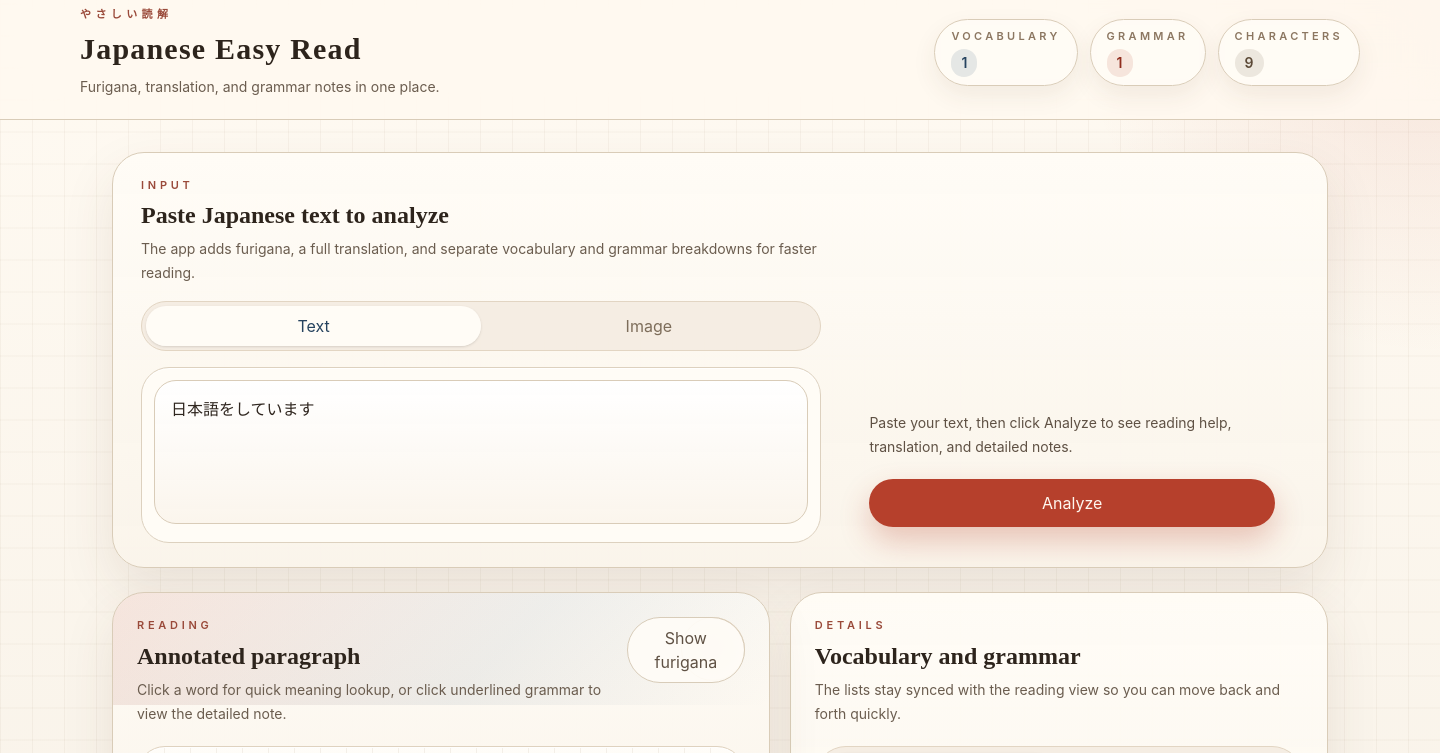
Test case: App › switches to the Grammar tab when a grammar token is clicked
This screenshot has width=1440, height=753.
Replace the text in the text box with placeholder "Paste a Japanese paragraph..." with "日本語". click: point(481, 452)
box: [154,380,808,524]
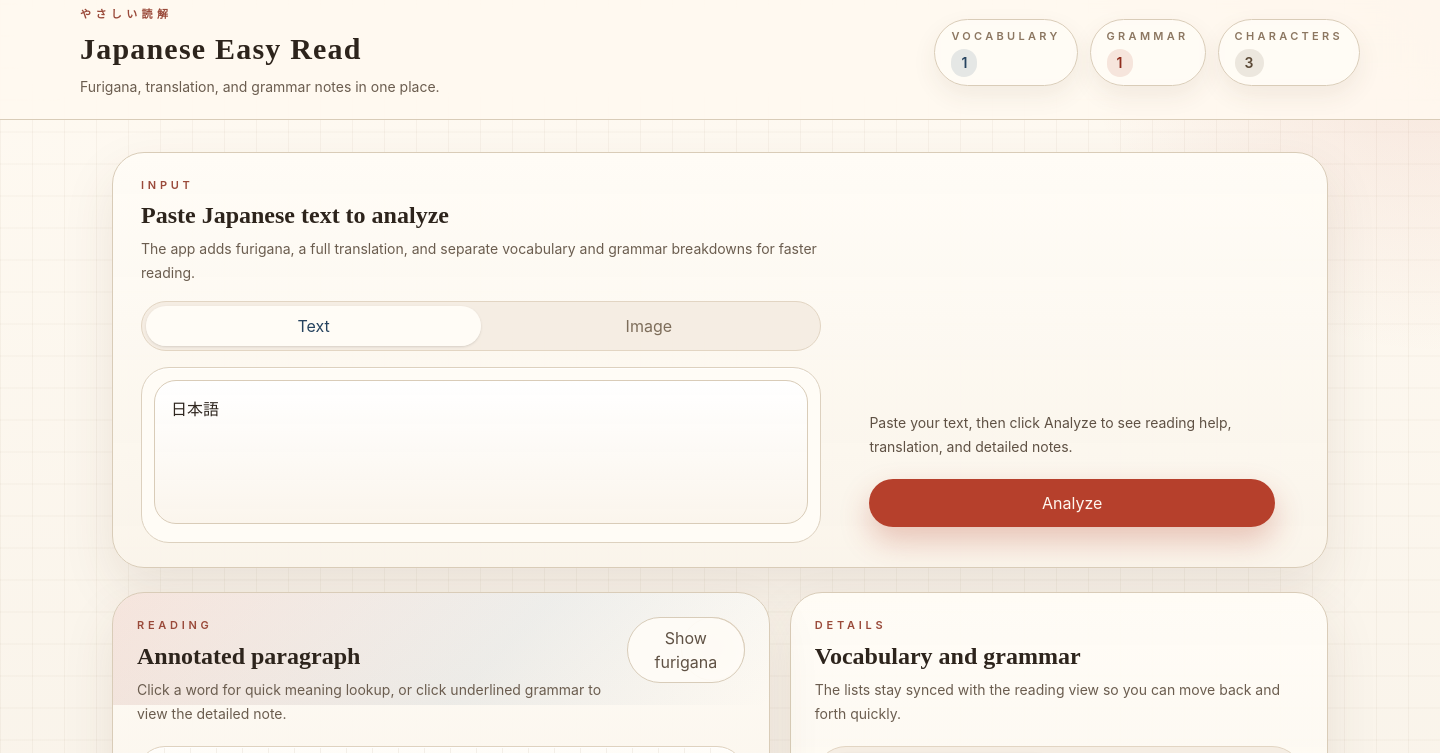
Click the button "Analyze". click: point(1072, 503)
box: [869,479,1275,527]
(page scrolled)
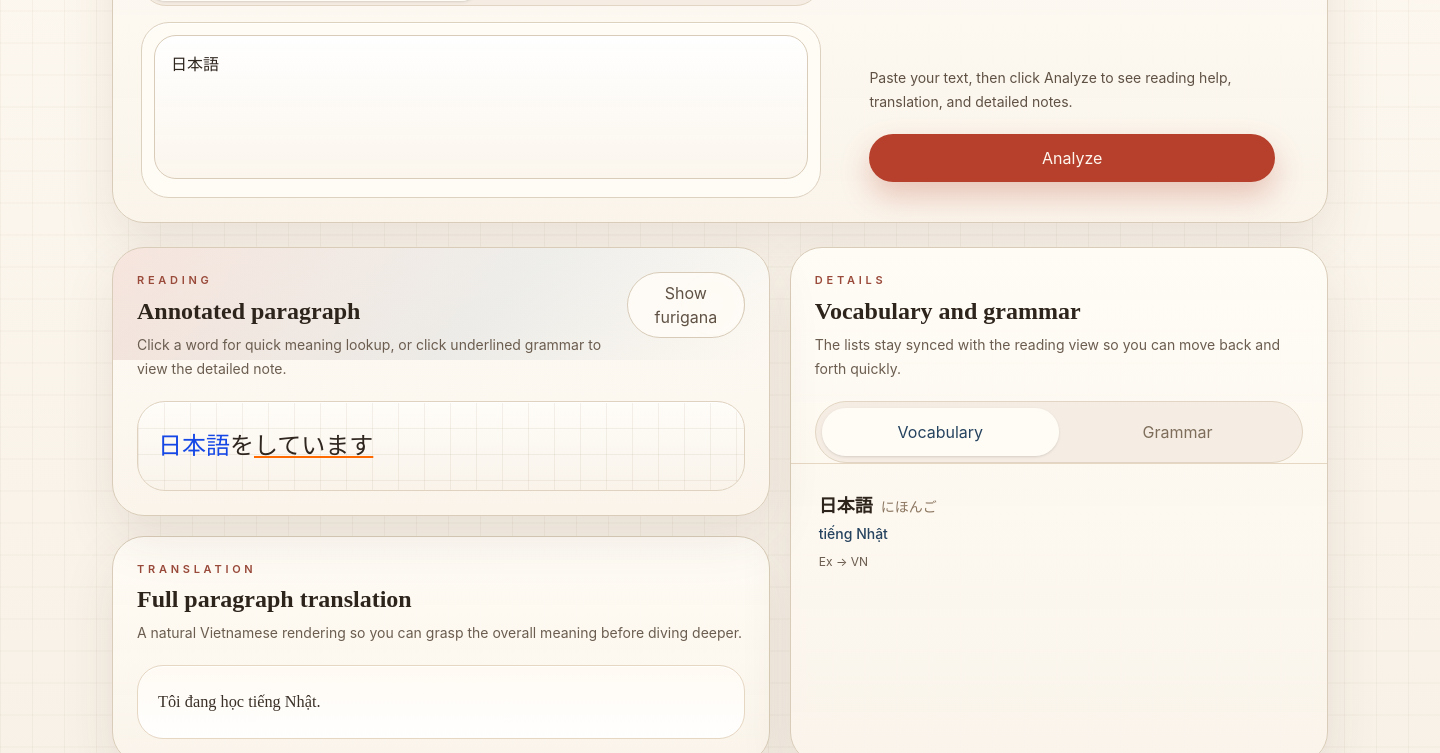
Click the text "しています". click: point(314, 445)
box: [254,430,373,460]
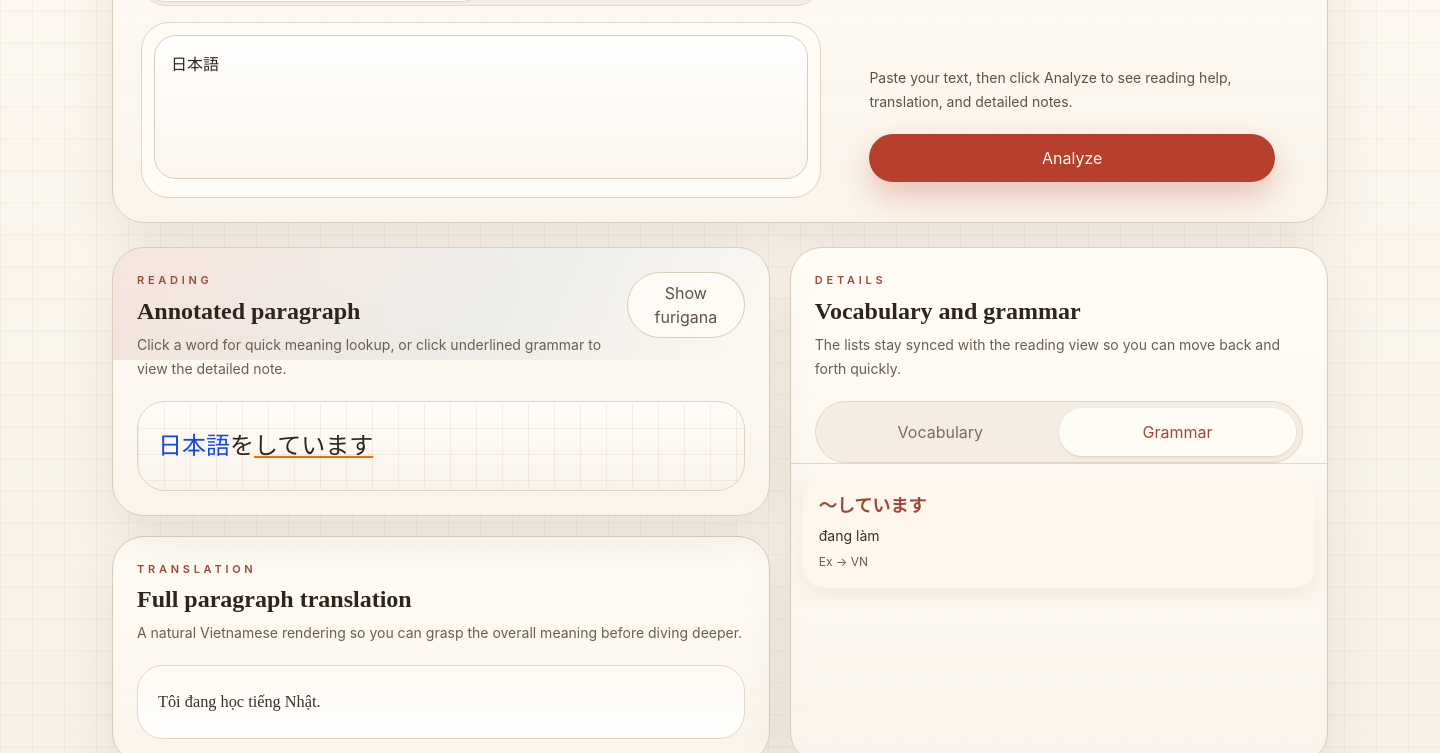
Check: the text "〜しています" is shown, box [819,496,926,516]
